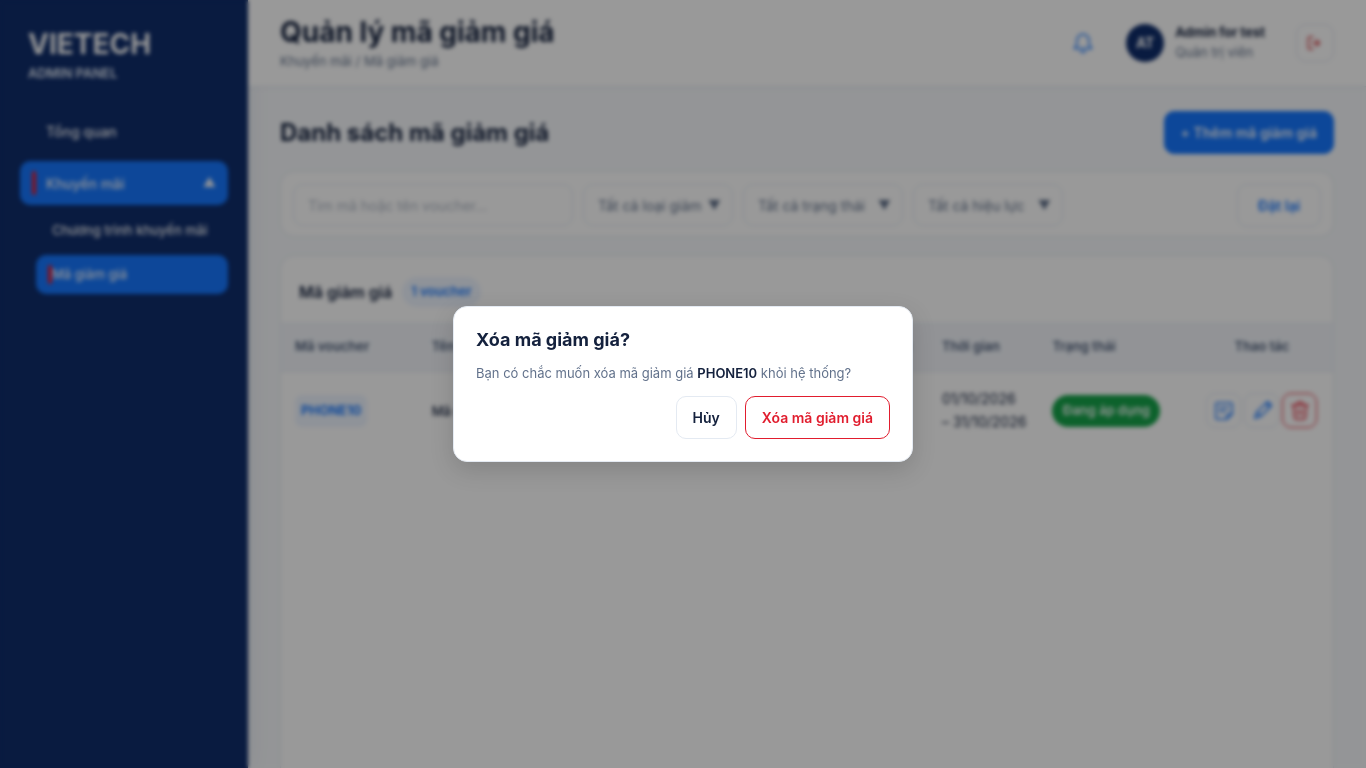
Test: a used coupon cannot be deleted and no manual pause action is offered
What coordinates should you click on to do the following:
click the button "Xóa mã giảm giá"
I would click on:
 (817, 418)
Its box is [745,396,890,439].
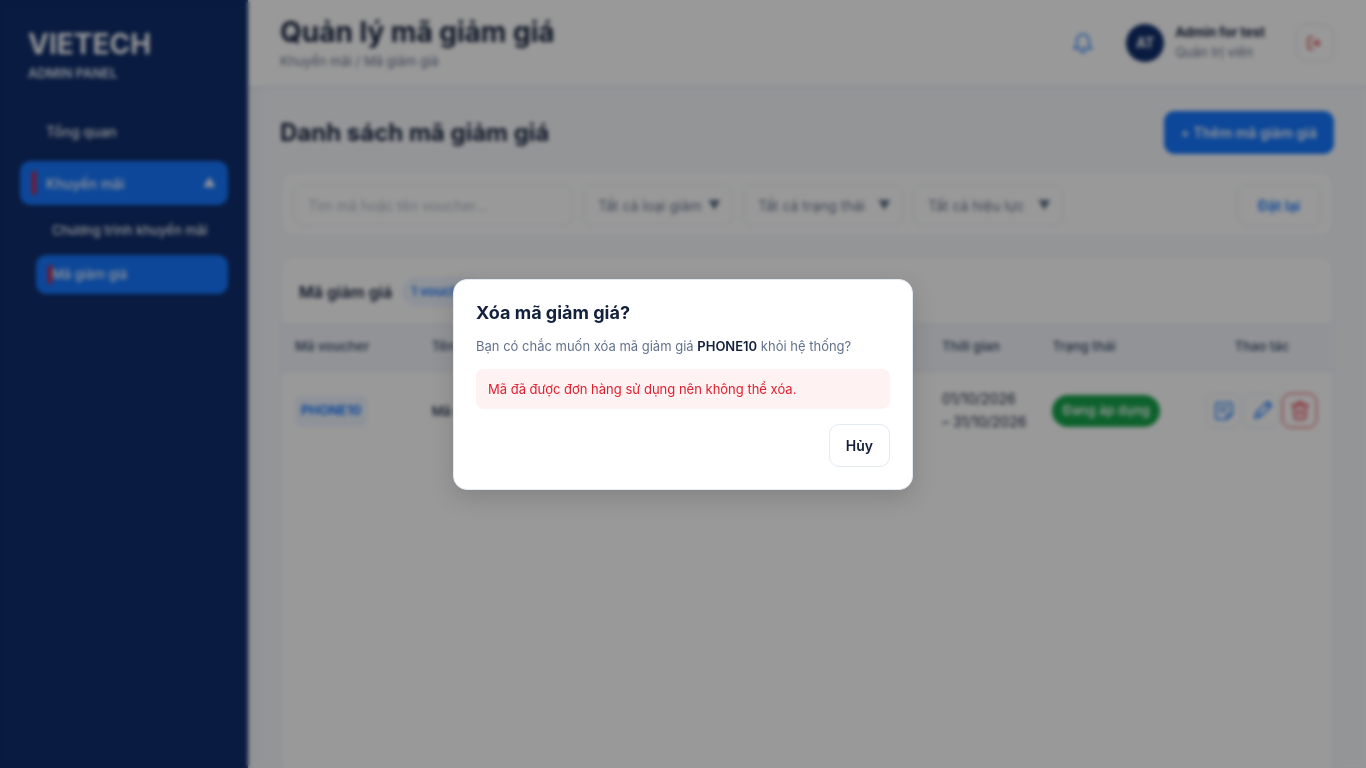
Now the text "Mã đã được đơn hàng sử dụng nên không thể xóa." is shown, box [476,368,890,408]
